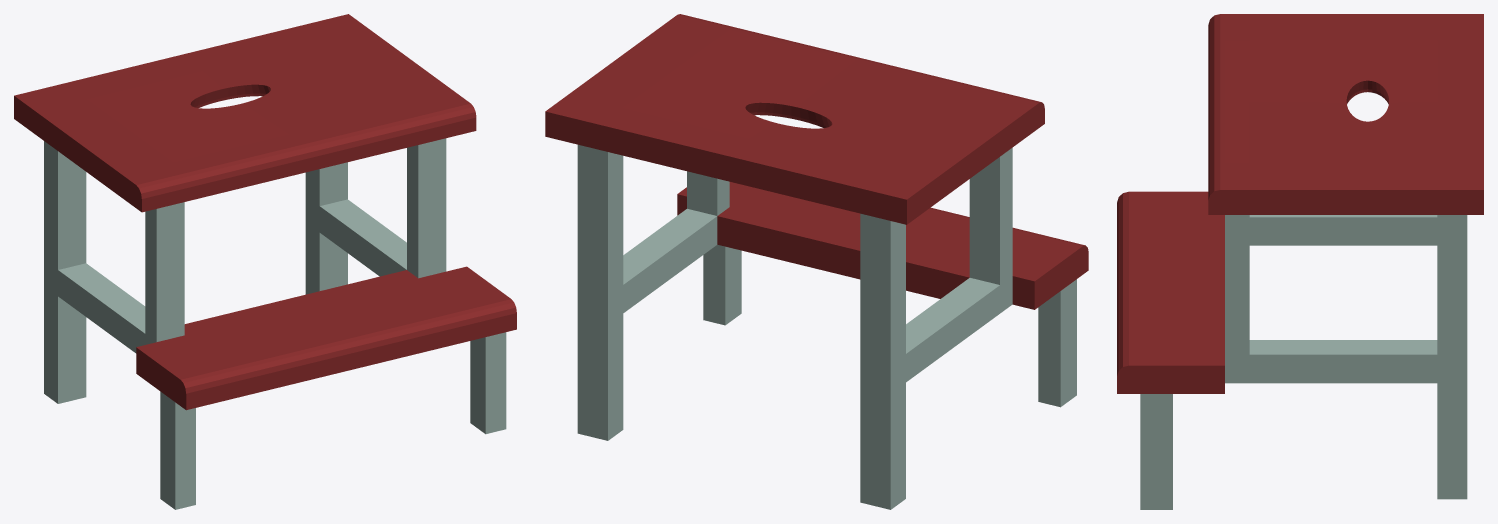
File: Chair_With_Whole.fbx
3 renders of one model, left to right at view 1: azimuth 30°, elevation 25°; view 2: azimuth 150°, elevation 25°; view 3: azimuth 270°, elevation 25°, orthographic. The views are drawn at different scales.
Parts seen in each view (by area): view 1: Chair_With_Whole; view 2: Chair_With_Whole; view 3: Chair_With_Whole.
Part boxes in pixels (bbox=[...]): Chair_With_Whole: bbox=[14, 14, 516, 509]; Chair_With_Whole: bbox=[545, 14, 1088, 509]; Chair_With_Whole: bbox=[1117, 14, 1483, 509].
Bounding box in the file's own units: 266 × 226 × 234.
